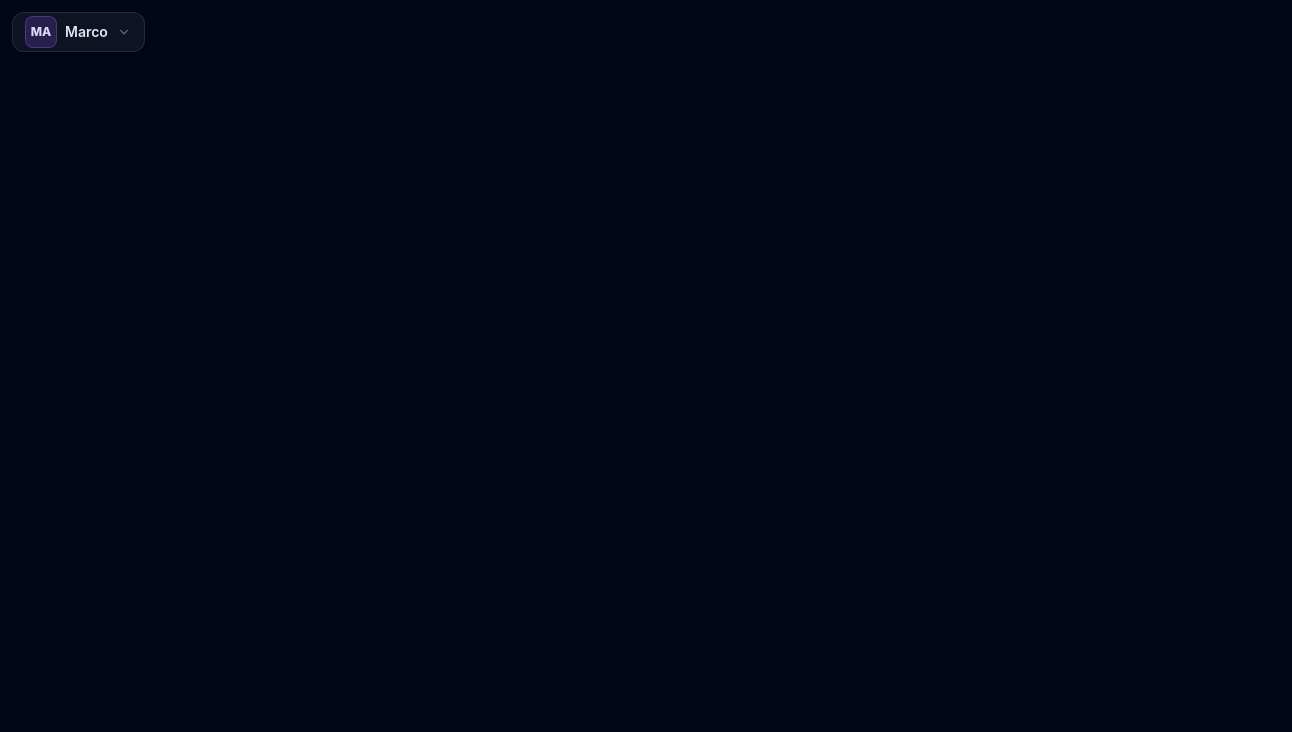
ProfileMenu › muestra los módulos del estudiante autenticado dentro del desplegable
Click the button with aria-label "Abrir menú de Marco Antonio" at (78, 32), box [12,12,145,52]
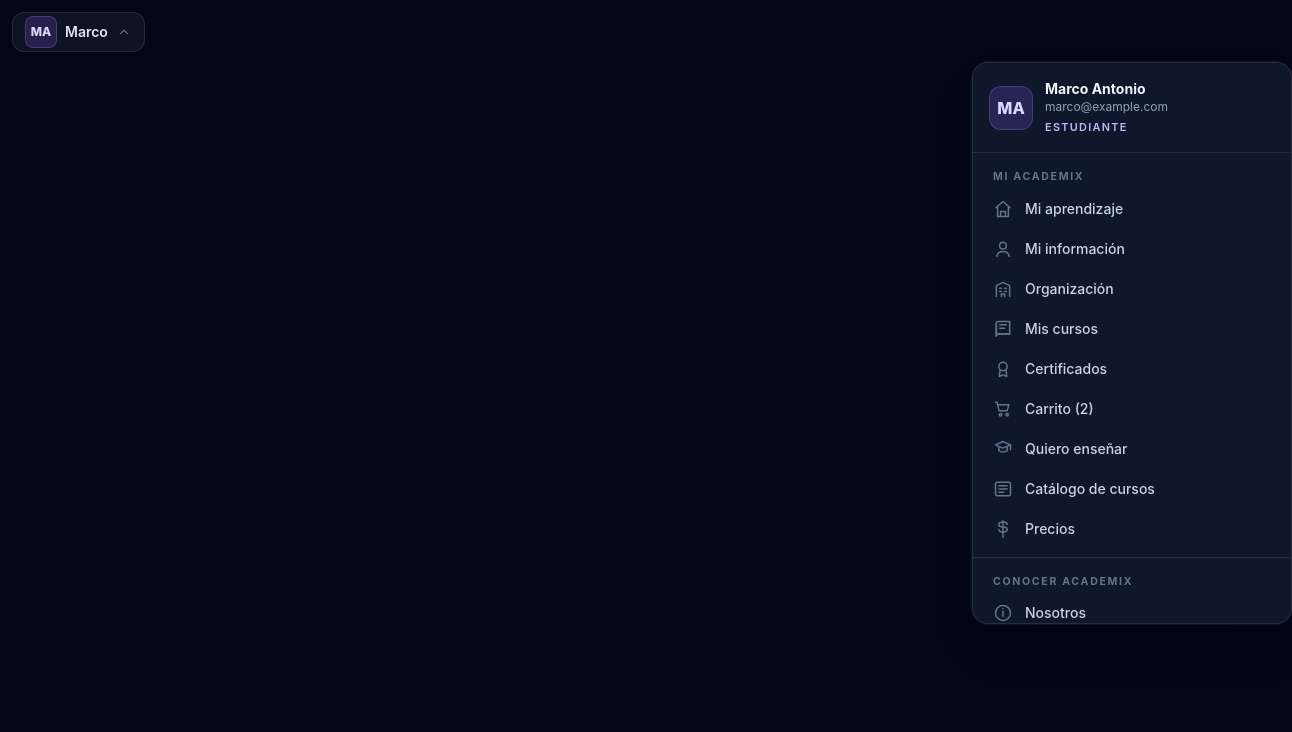
Check: the text "Marco Antonio" is shown, box [1045,80,1146,97]
